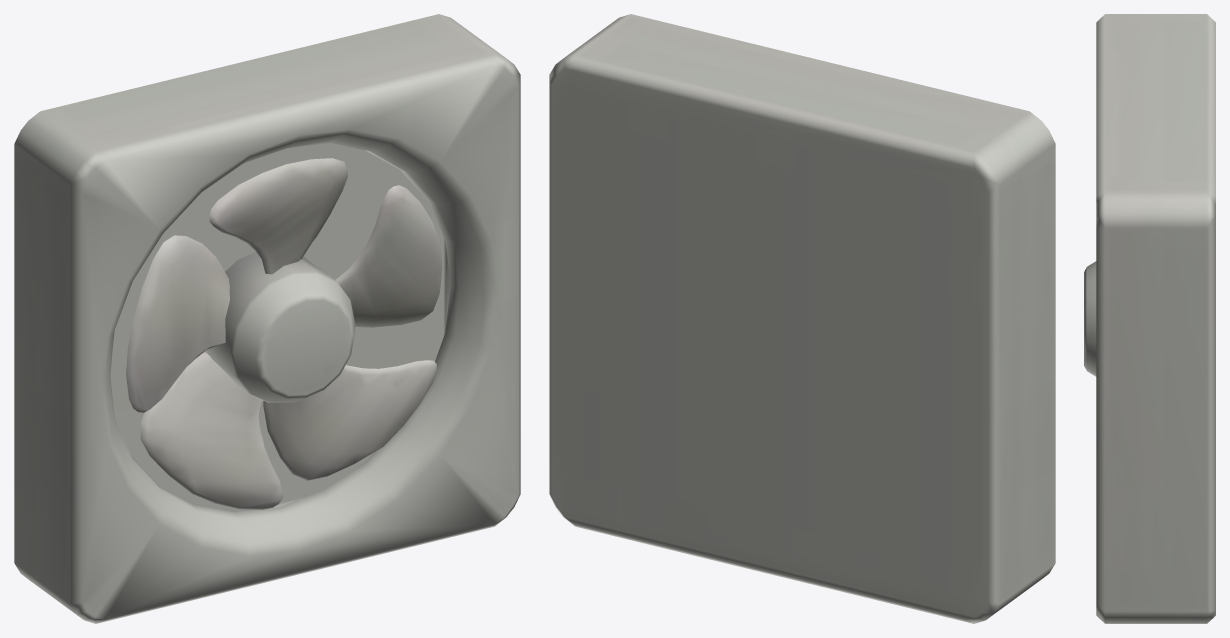
3 views of the same model, side by side, from view 1: azimuth 30°, elevation 25°; view 2: azimuth 150°, elevation 25°; view 3: azimuth 270°, elevation 25° (orthographic). The views are drawn at different scales.
Size of the model in its own units: 6.22 by 6.22 by 1.72.
1 material, 1 textured.
